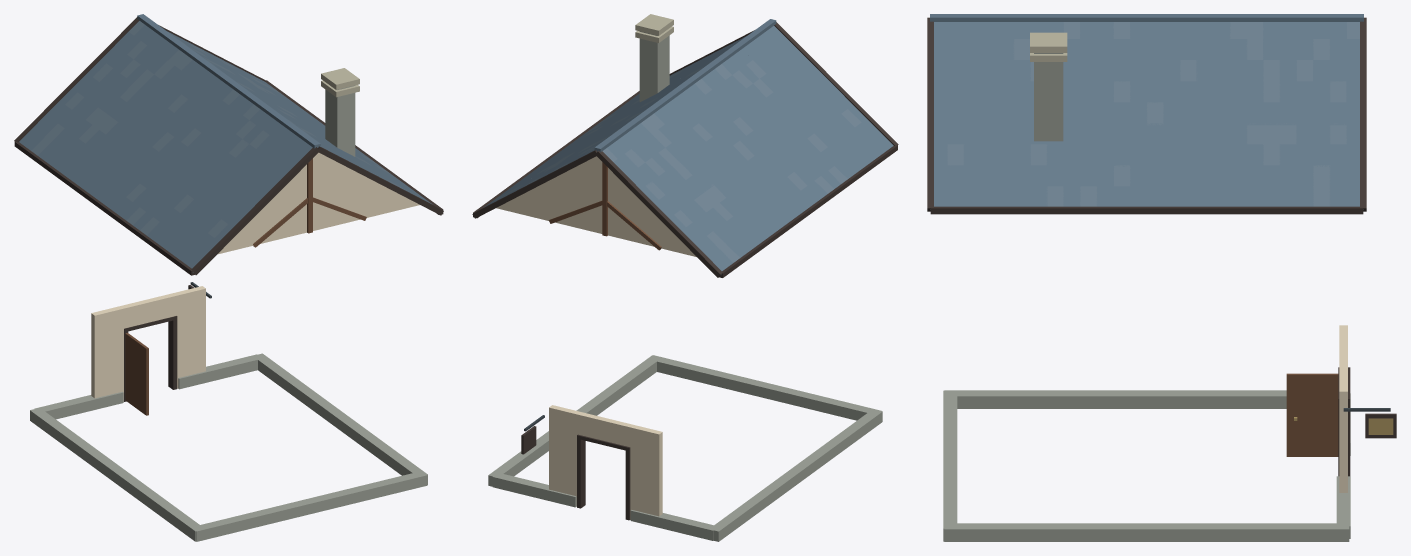
The model's file is SM_TownHouse3_Details.glb.
3 renders of one model, left to right at view 1: azimuth 30°, elevation 25°; view 2: azimuth 150°, elevation 25°; view 3: azimuth 270°, elevation 25°, orthographic. The views are drawn at different scales.
Visible parts, largest first — view 1: SM_TownHouse3_Details; view 2: SM_TownHouse3_Details; view 3: SM_TownHouse3_Details.
Part boxes in pixels (x1=…): SM_TownHouse3_Details: x1=14, y1=14, x2=443, y2=541; SM_TownHouse3_Details: x1=472, y1=14, x2=898, y2=541; SM_TownHouse3_Details: x1=927, y1=14, x2=1396, y2=541.
Size of the model in its own units: 9.06 by 13.34 by 11.94.
